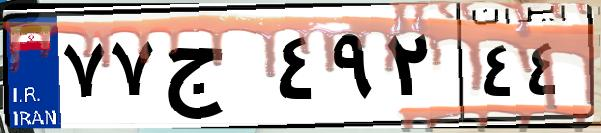2: (385, 28, 445, 110)
4: (270, 28, 330, 110), (475, 38, 525, 113), (525, 38, 570, 115)
7: (57, 26, 110, 100), (110, 28, 158, 98)
9: (330, 28, 385, 110)
ج: (158, 20, 270, 120)
